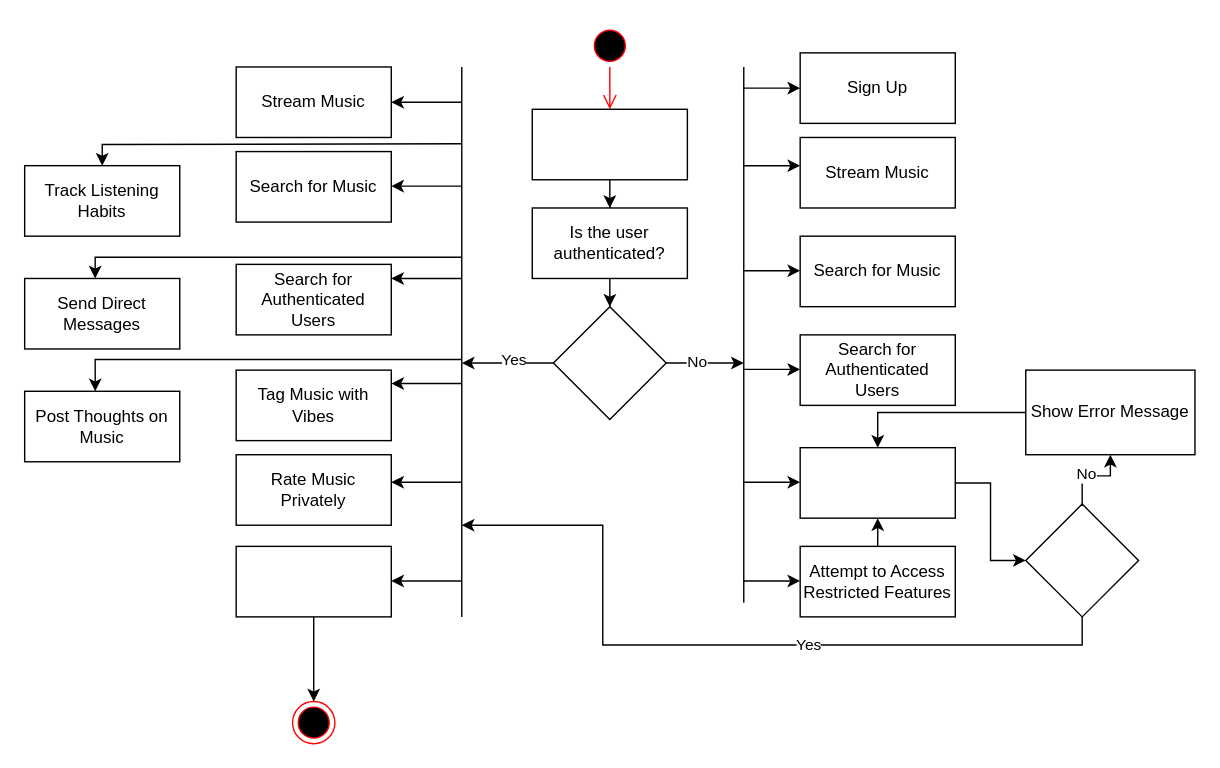
Image size: 1220x768. Some labels were removed from this diagram. The shapes that lost their labels are listed below. From the top down, each one's centre as x and y in pixels, then its label:
At point 609,144: "User accesses the PlayBack platform".
At point 609,362: "Decision".
At point 877,482: "Login".
At point 1081,560: "Login Success?".
At point 313,581: "Logout".
